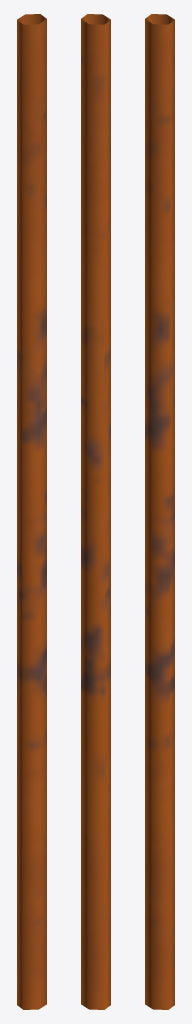
The model's file is CableShroud.fbx.
3 views of the same model, side by side, from view 1: azimuth 30°, elevation 25°; view 2: azimuth 150°, elevation 25°; view 3: azimuth 330°, elevation 25° (orthographic).
Parts seen in each view (by area): view 1: Cable_Shroud_LOD0; view 2: Cable_Shroud_LOD0; view 3: Cable_Shroud_LOD0.
Part boxes in pixels (x1=…): Cable_Shroud_LOD0: x1=17, y1=14, x2=46, y2=1009; Cable_Shroud_LOD0: x1=81, y1=14, x2=110, y2=1009; Cable_Shroud_LOD0: x1=145, y1=14, x2=174, y2=1009.
Size of what is drawn, in the model's own units: 0.05 by 2 by 0.05.
